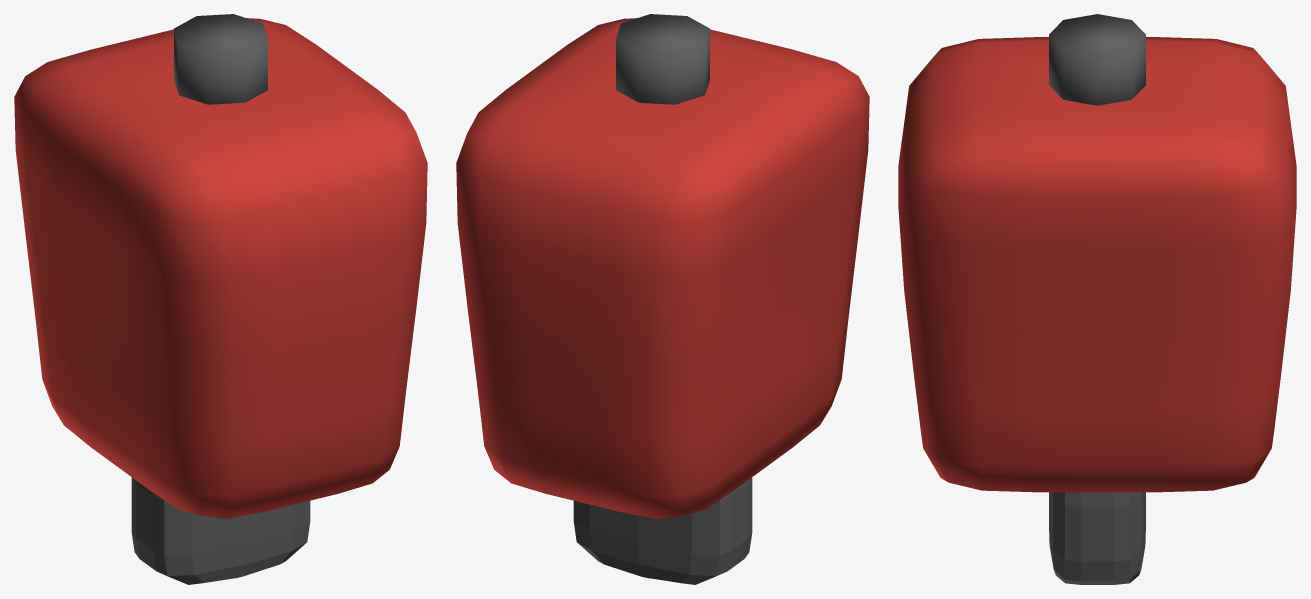
Rendered from body.fbx.
3 views of the same model, side by side, from view 1: azimuth 30°, elevation 25°; view 2: azimuth 150°, elevation 25°; view 3: azimuth 270°, elevation 25° (orthographic).
Visible parts, largest first — view 1: Cube.001, Cube.002, Cylinder; view 2: Cube.001, Cube.002, Cylinder; view 3: Cube.001, Cube.002, Cylinder.
Boxes of the visible parts, x1,y1,x2,y2 form: Cube.001: [14, 18, 427, 518]; Cube.002: [131, 477, 310, 584]; Cylinder: [174, 14, 267, 104]; Cube.001: [456, 18, 869, 518]; Cube.002: [573, 477, 752, 584]; Cylinder: [616, 14, 709, 104]; Cube.001: [898, 37, 1296, 492]; Cube.002: [1049, 492, 1145, 584]; Cylinder: [1049, 14, 1145, 105].
Bounding box in the file's own units: 194 × 363 × 246.
